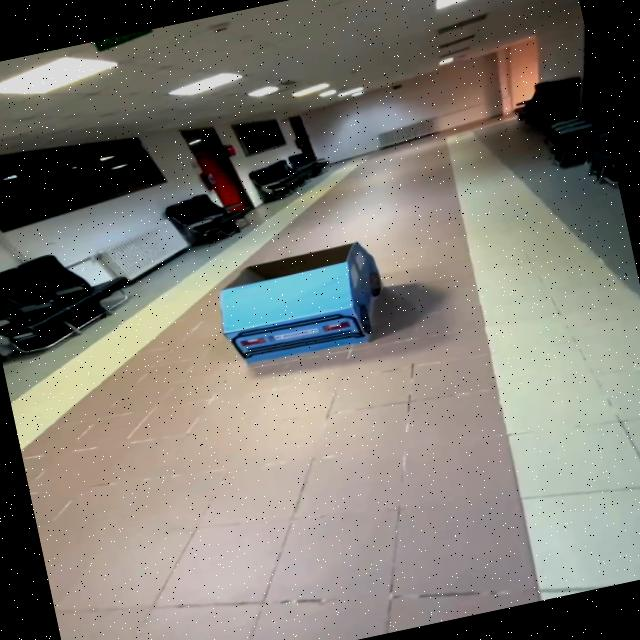blue_car: (192, 222, 411, 385)
